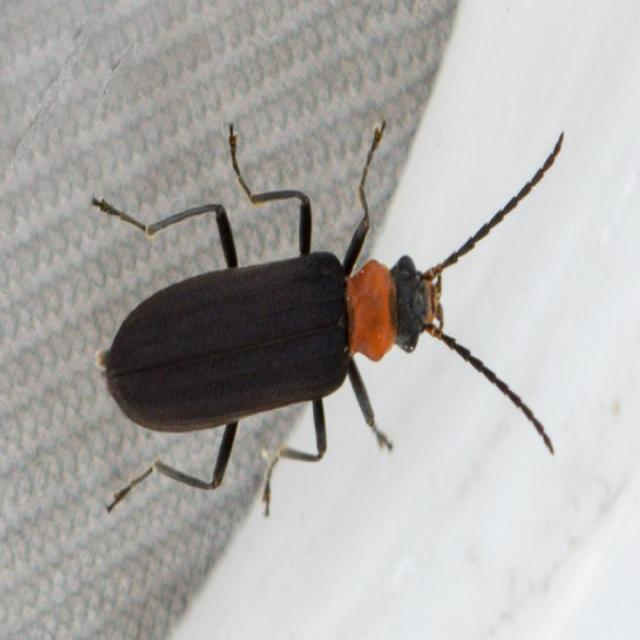BlisterBeetle-Adult-: (70, 114, 582, 534)
